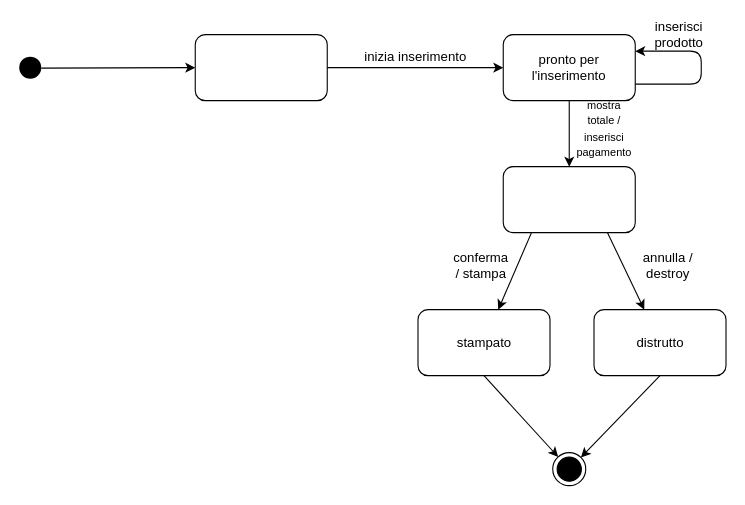
This 745x505 diagram has some shape labels left out. Here are the shapes that lost their labels. From the top down, the centre of each, then its label:
At (x=260, y=67): "scontrino vuoto".
At (x=568, y=199): "pronto per la stampa".
